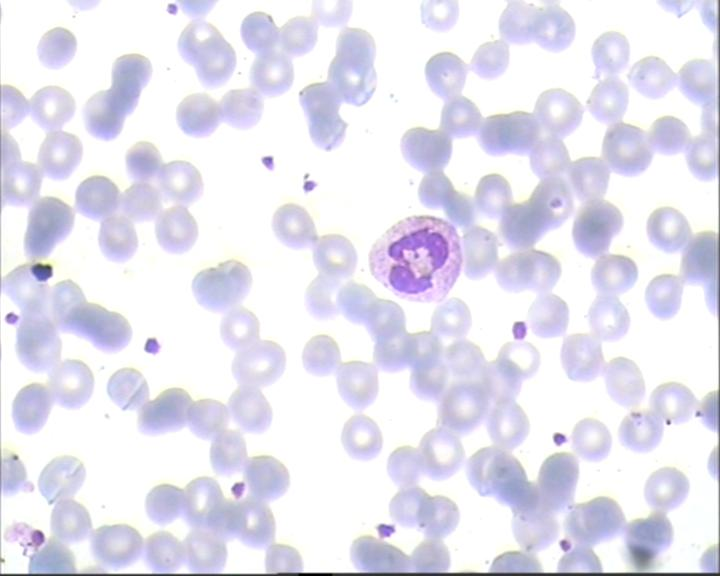neut: (360, 210, 464, 306)
